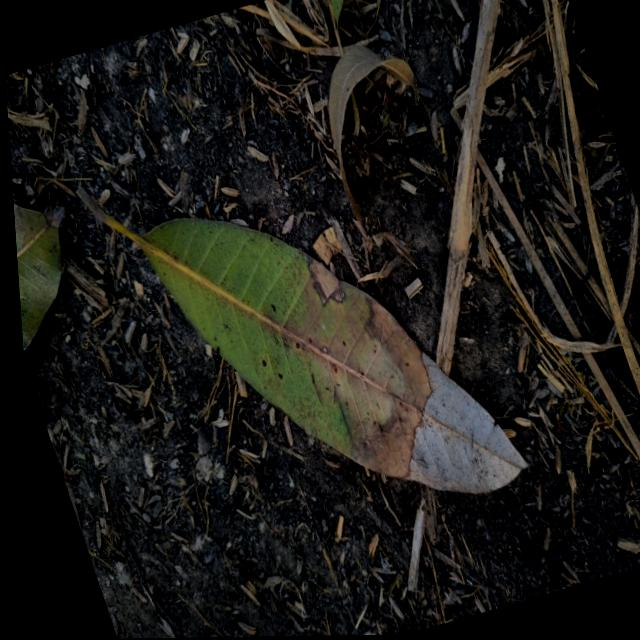Anthracnose: (250, 352, 289, 391), (265, 297, 279, 316), (260, 356, 268, 368), (276, 371, 285, 380), (294, 340, 301, 349)
Bacterial Cancer: (427, 406, 521, 502), (302, 248, 350, 310)
black die: (265, 295, 280, 316)
